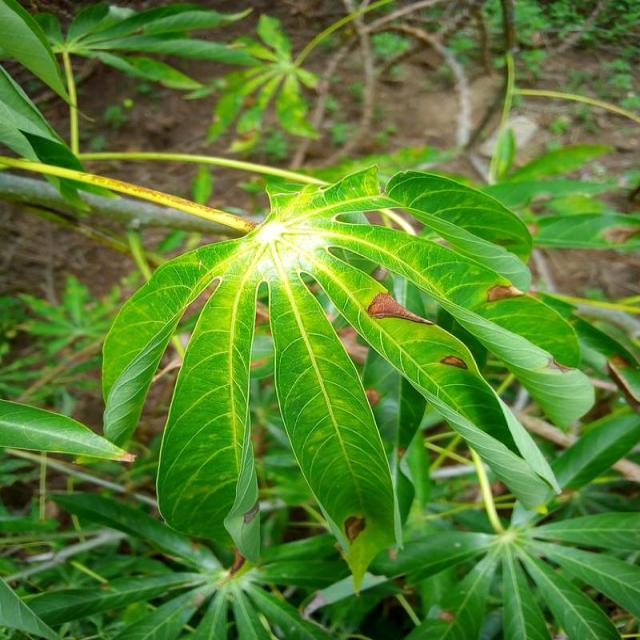cassava leaf: (101, 162, 594, 588)
